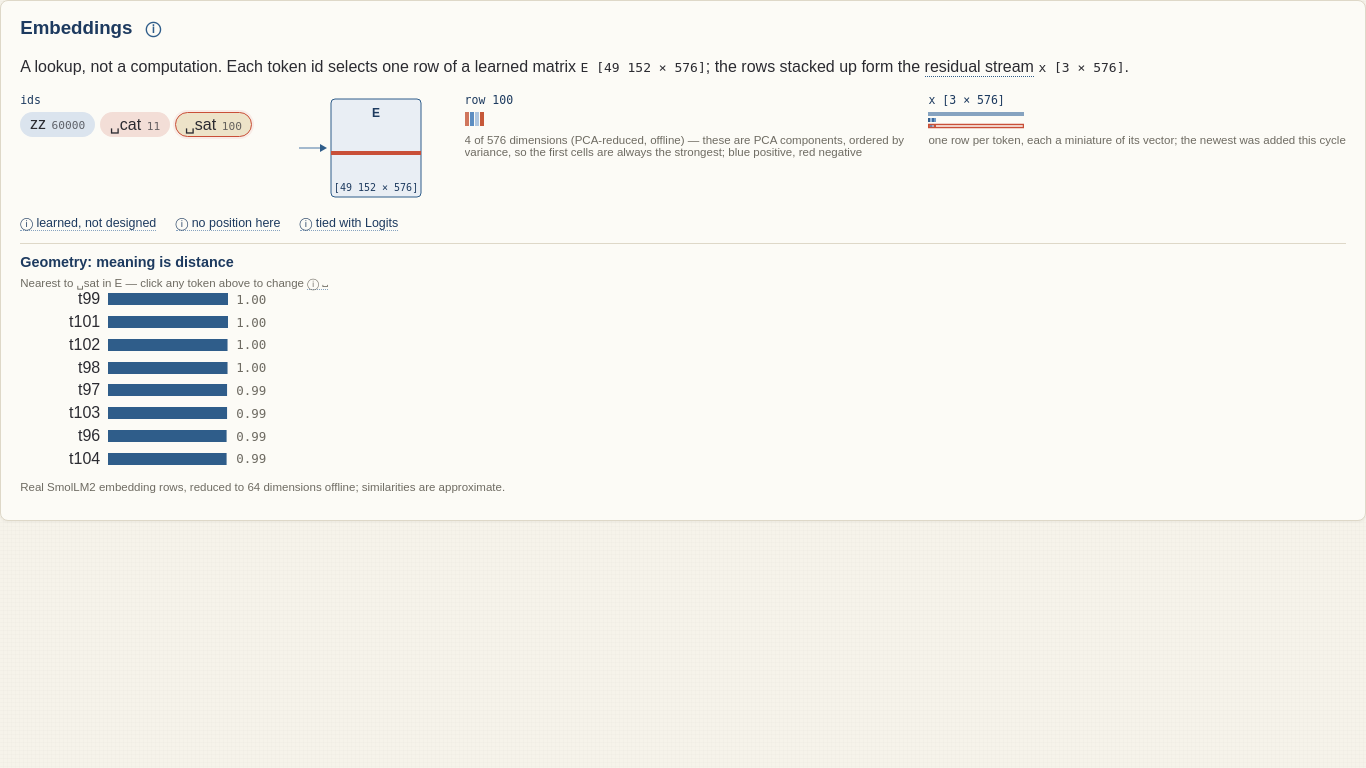
a token id outside the asset vocabulary does not crash and hides its geometry
Click the button with test id "embed-token" showing "zz 60000" at (58, 124), box [20,112,95,137]
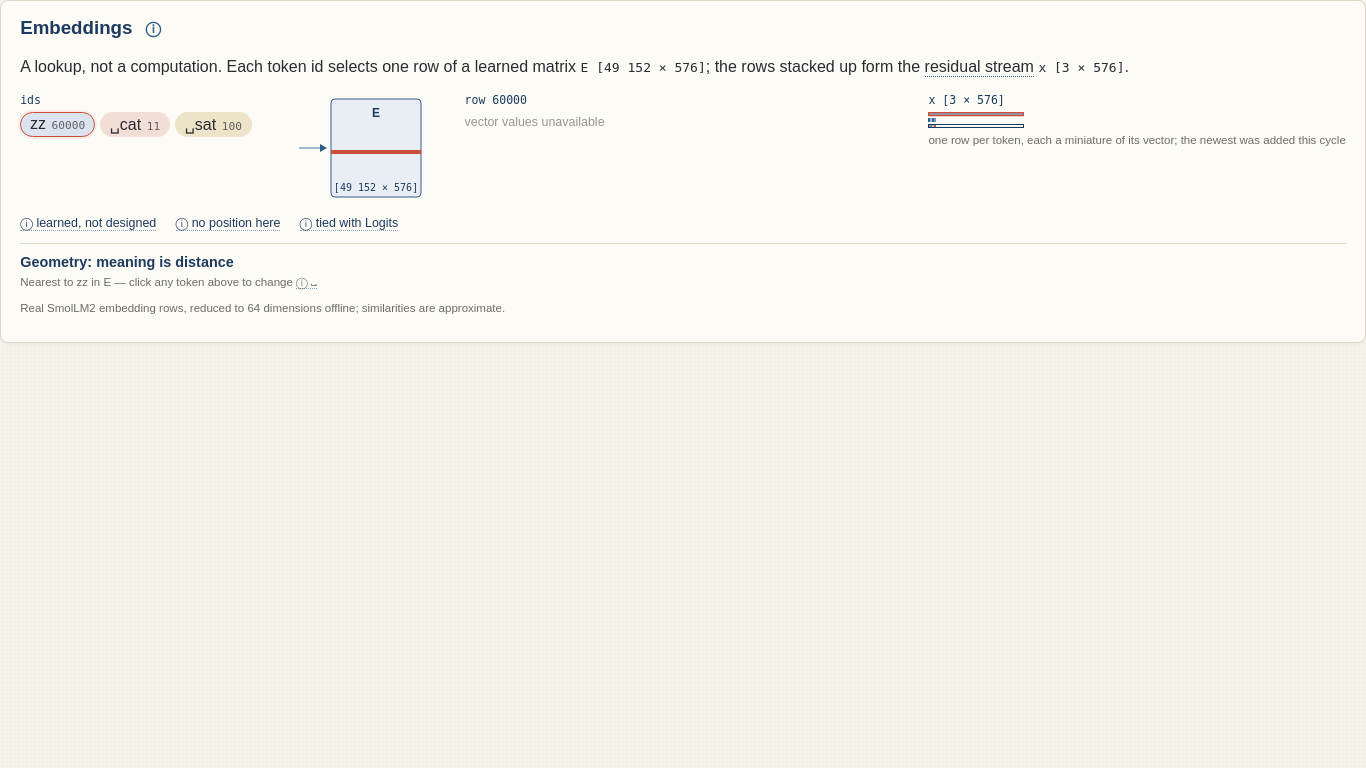
Expected: the text "vector values unavailable" is shown, [465,115,605,129]
Expected: no elements with test id "embed-neighbor" are shown
